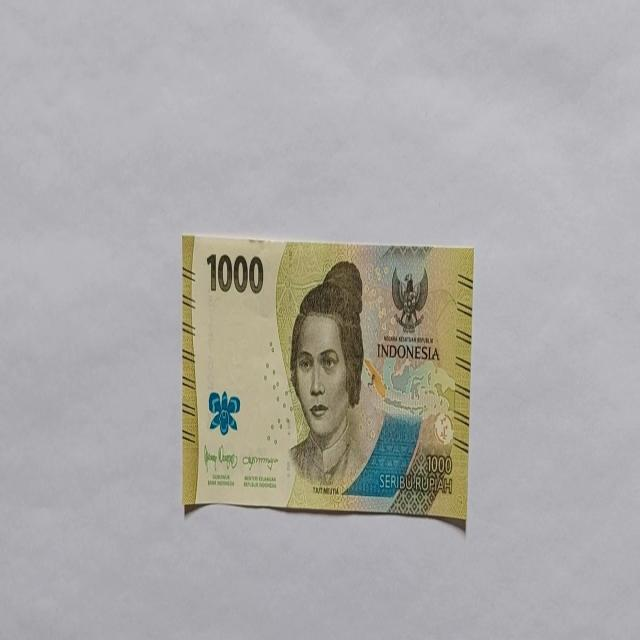seribu rupiah kertas: (181, 232, 474, 526)
